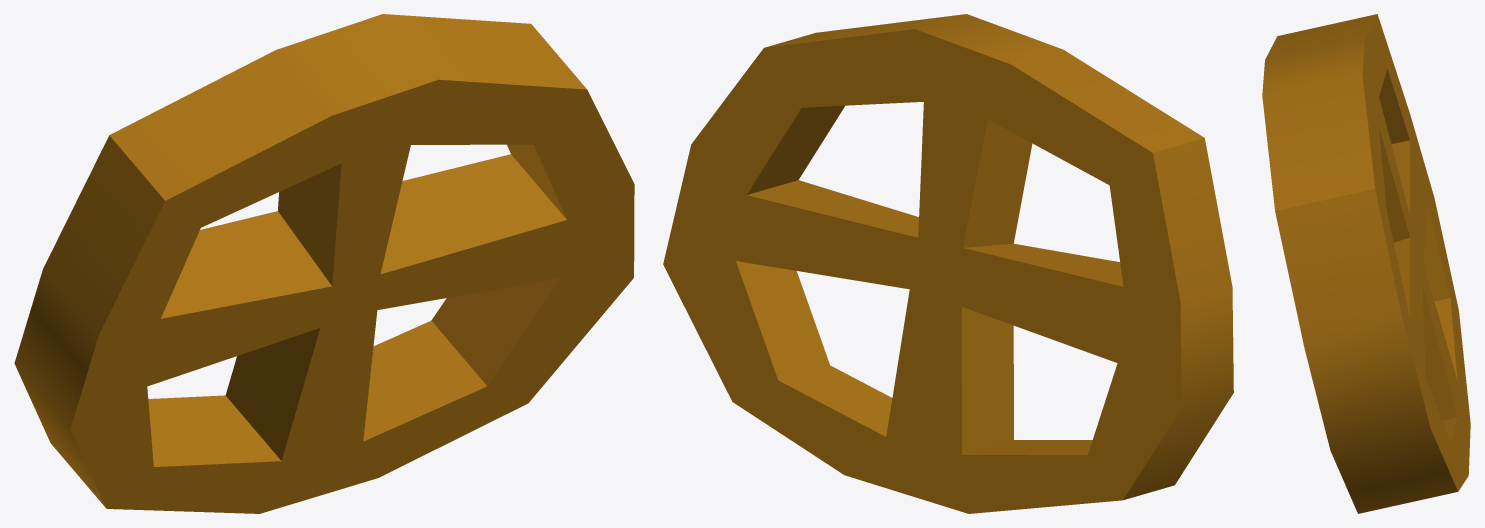
File: frontWindow_mdl.fbx
The picture shows the model from 3 angles, left to right: view 1: azimuth 30°, elevation 25°; view 2: azimuth 150°, elevation 25°; view 3: azimuth 270°, elevation 25°; orthographic projection. The views are drawn at different scales.
Parts seen in each view (by area): view 1: frontWindow_GEO; view 2: frontWindow_GEO; view 3: frontWindow_GEO.
Boxes of the visible parts, x1,y1,x2,y2 form: frontWindow_GEO: (14,14,634,513); frontWindow_GEO: (663,14,1233,513); frontWindow_GEO: (1262,14,1470,513).
Bounding box in the file's own units: 624 × 504 × 224.
